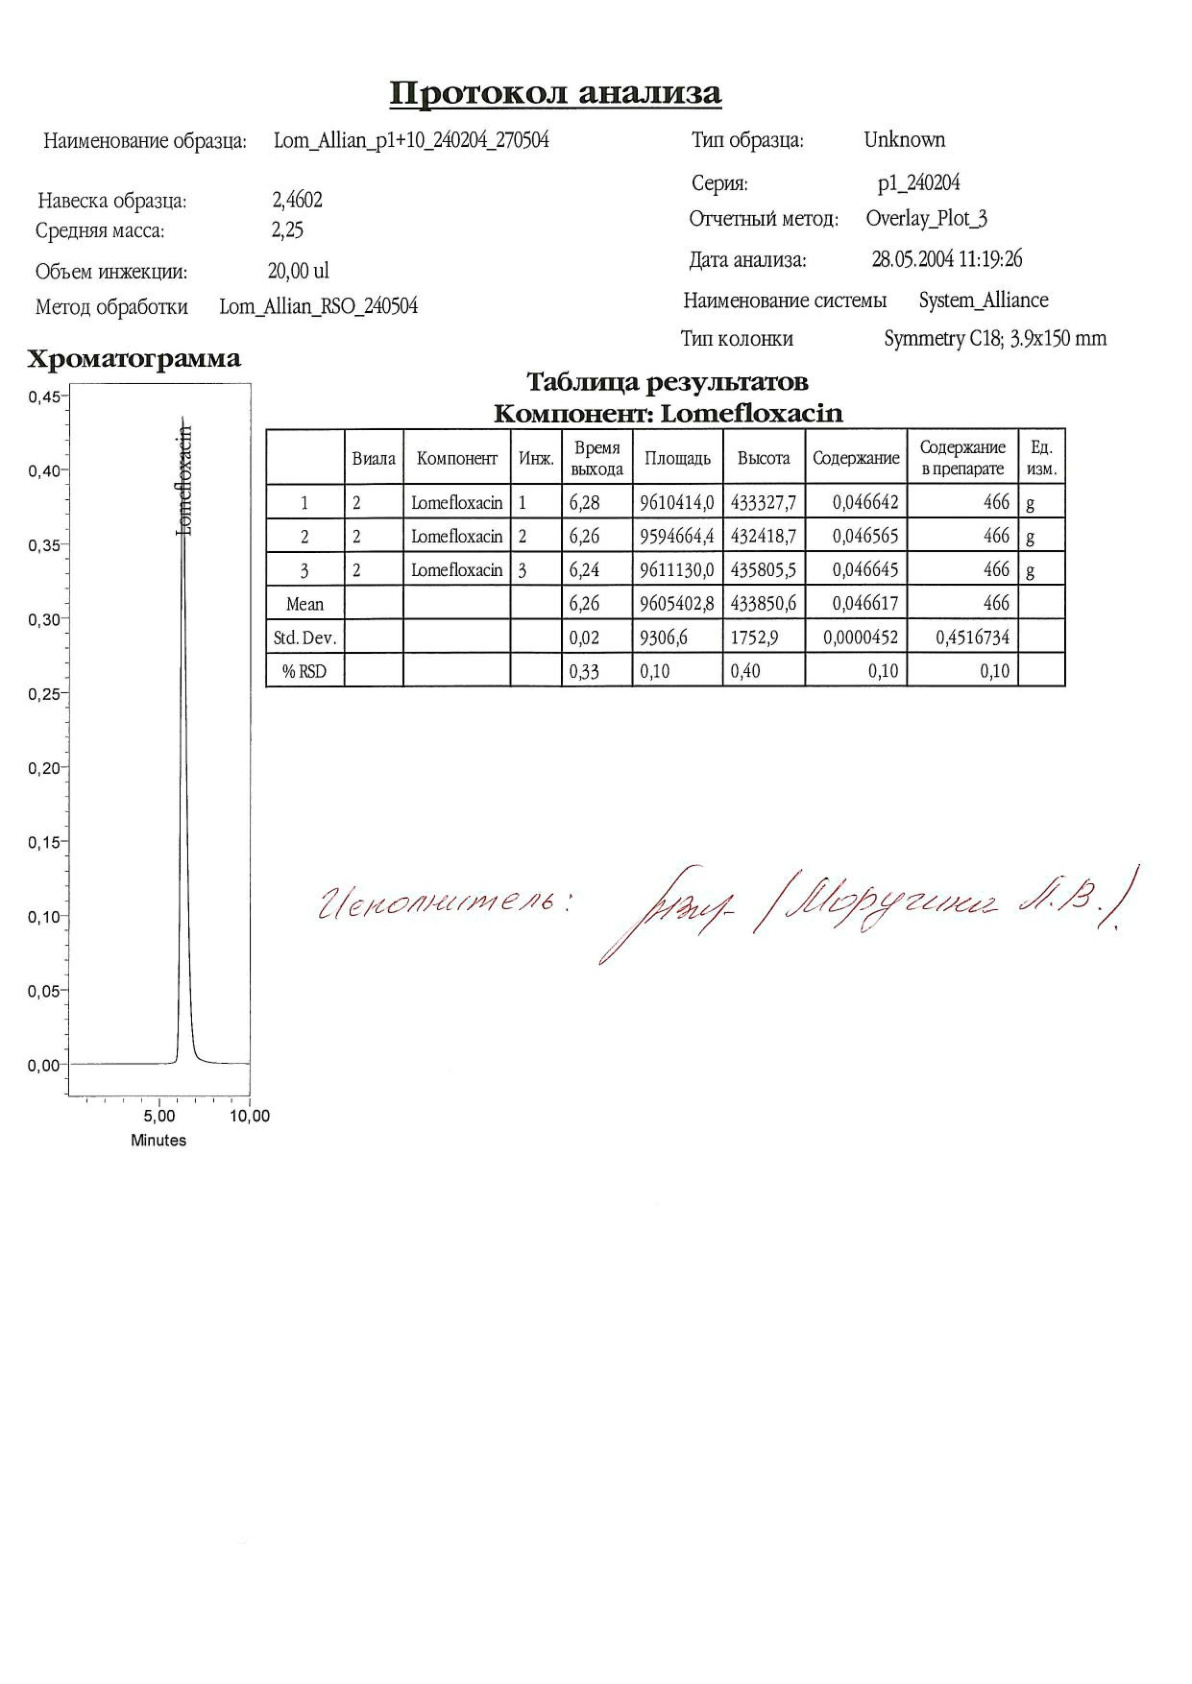full_lined: (264, 427, 1067, 689)
nolines: (34, 126, 1115, 349)
